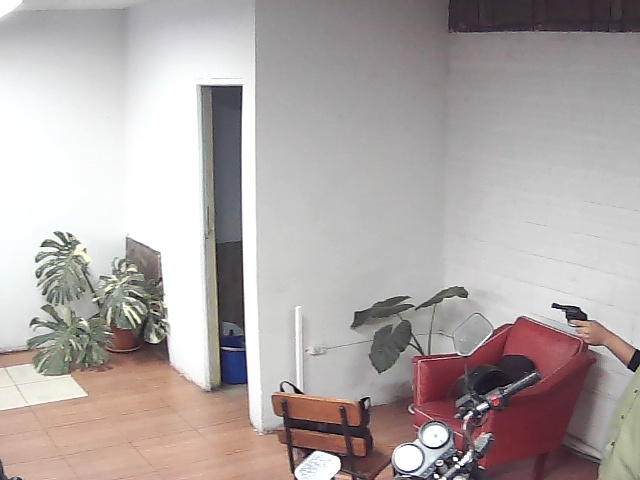pistola: (545, 298, 609, 349)
